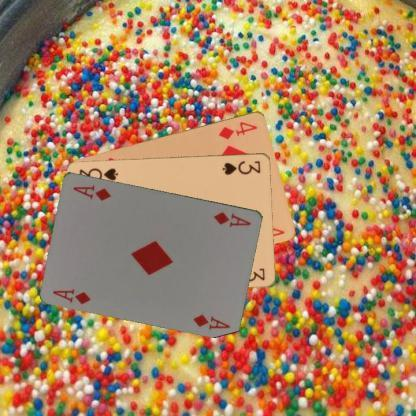3s: (220, 158, 262, 176)
4d: (216, 118, 259, 140)
Ad: (50, 286, 92, 306), (212, 208, 252, 228)
